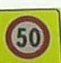limite 50: (4, 14, 49, 58)
